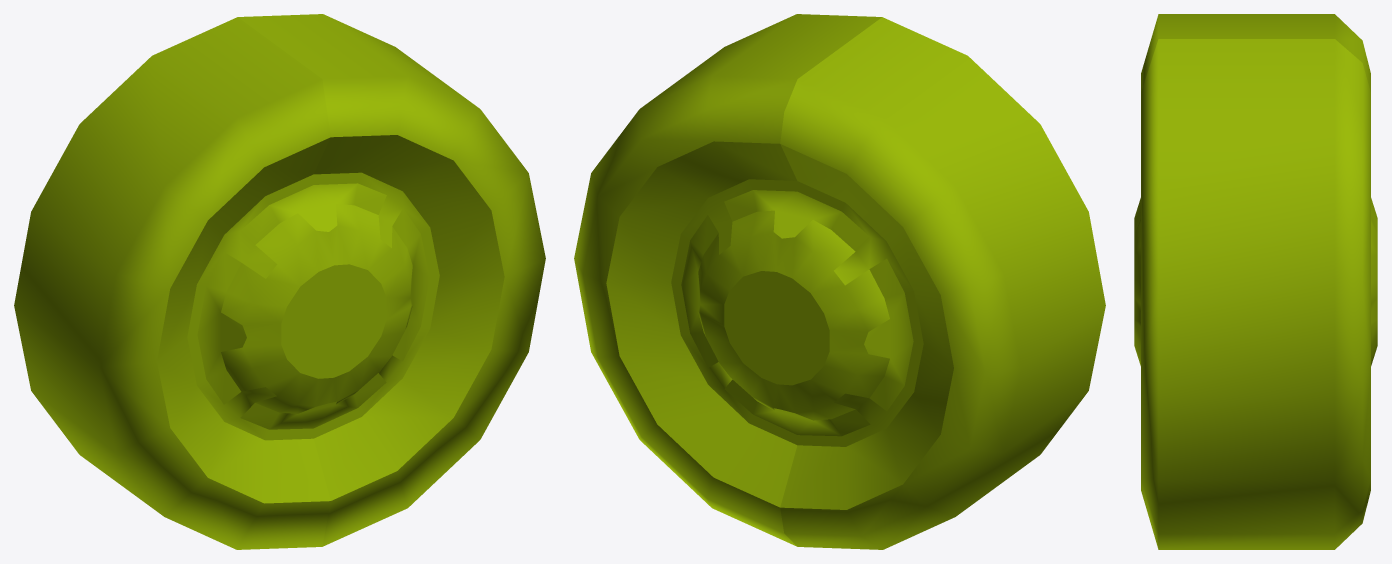
File: obj_vehicle_gripwheel_9x_lod2.fbx
The picture shows the model from 3 angles, left to right: view 1: azimuth 30°, elevation 25°; view 2: azimuth 150°, elevation 25°; view 3: azimuth 270°, elevation 25°; orthographic projection. The views are drawn at different scales.
Visible parts, largest first — view 1: gripwheel_9x_lod2.001; view 2: gripwheel_9x_lod2.001; view 3: gripwheel_9x_lod2.001.
Boxes of the visible parts, <box> form: gripwheel_9x_lod2.001: <box>14,14,545,549</box>; gripwheel_9x_lod2.001: <box>574,14,1105,549</box>; gripwheel_9x_lod2.001: <box>1134,14,1377,549</box>.
Bounding box in the file's own units: 7 × 7 × 3.18.
